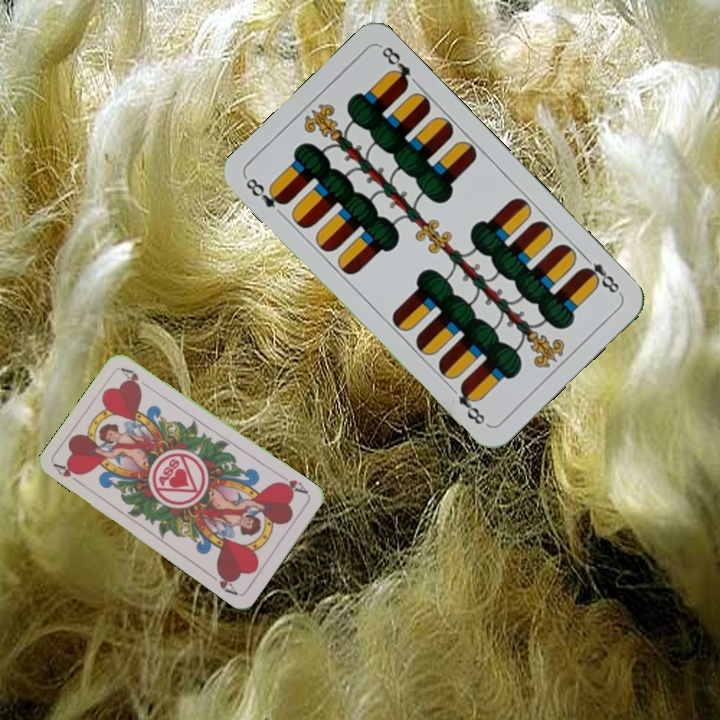E8: (577, 250, 623, 297), (241, 174, 290, 211)
HA: (50, 459, 86, 489), (273, 470, 311, 497)
